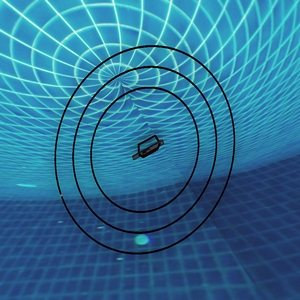circle: (46, 36, 239, 268)
